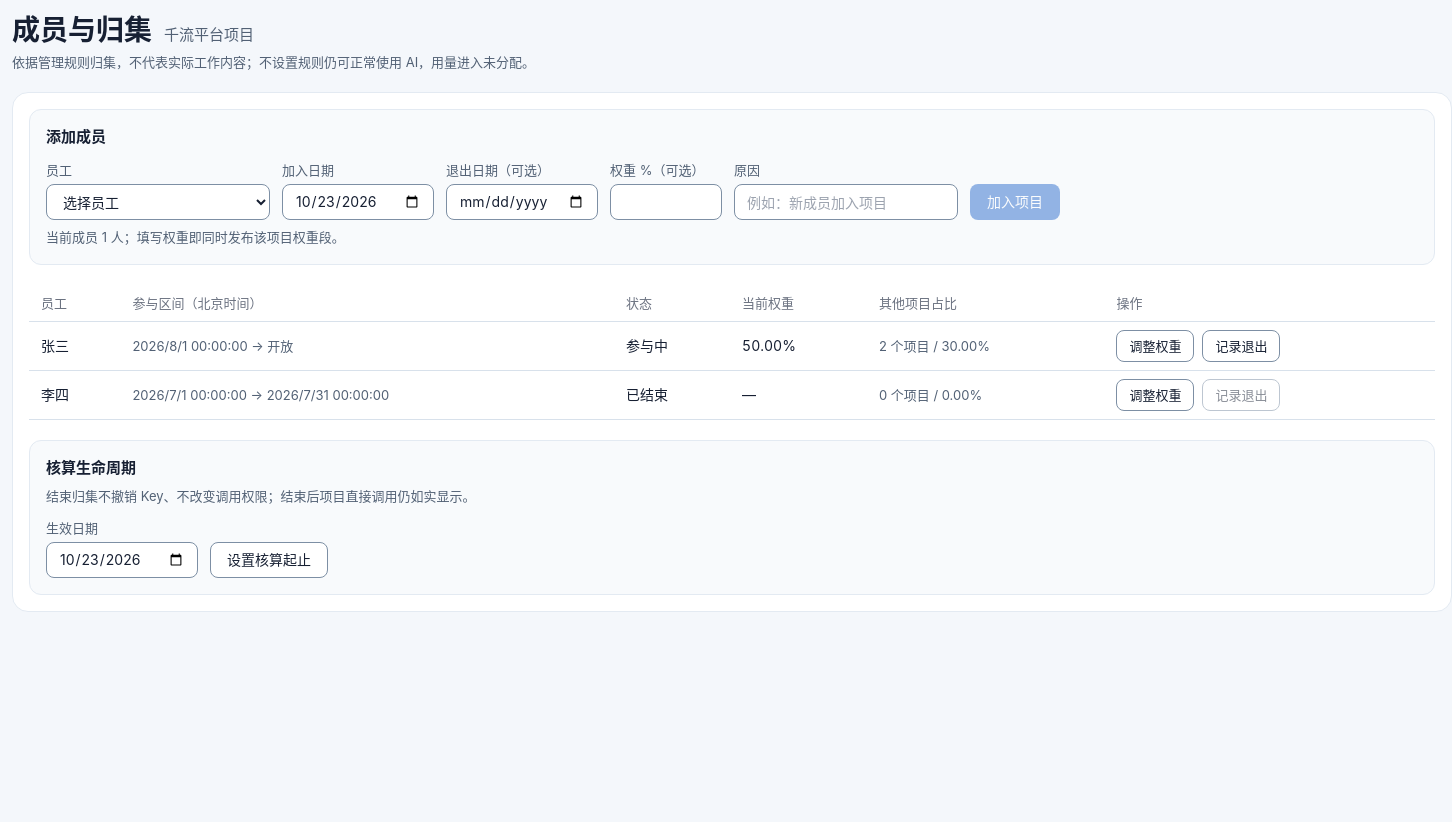
it: 项目成员与归集页面 › 设置核算起止携带当前核算窗口版本提交并提示结束
Click the button "设置核算起止".
click(269, 560)  # box [210,542,328,578]
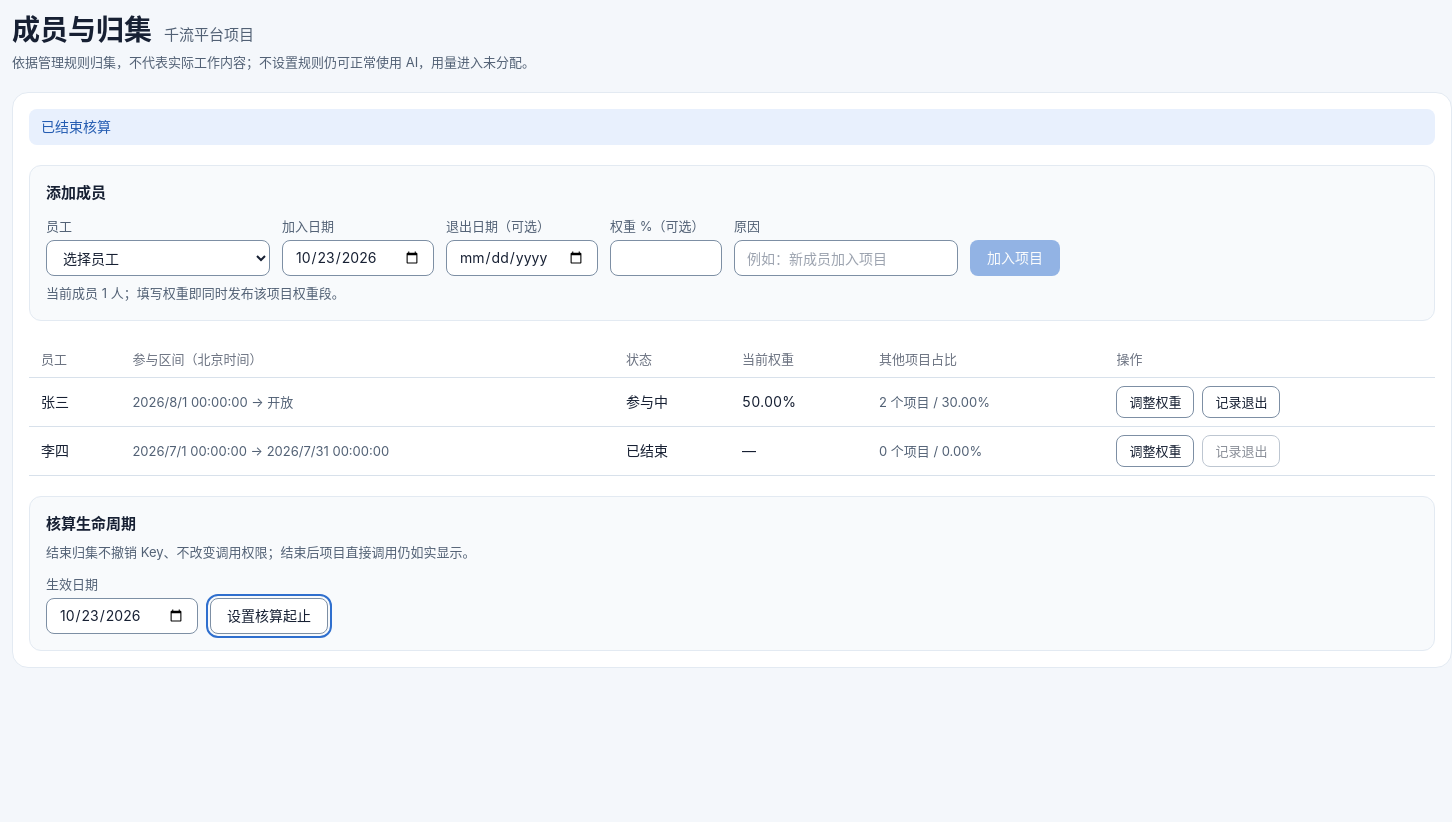
Result: the text "已结束核算" is shown at [29,109,1435,145]
